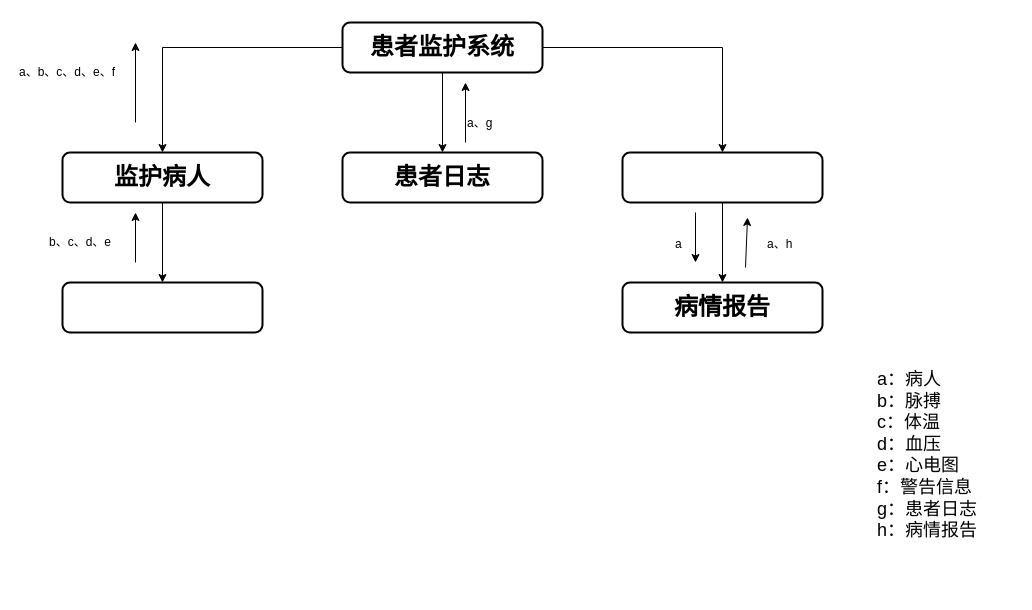
Image size: 1032x610. Some labels were removed from this diagram. The box of each missing label's shape, as (x1, y1, x2, y2) in pixels:
护士: (621, 151, 823, 203)
生理信号: (61, 281, 263, 333)
